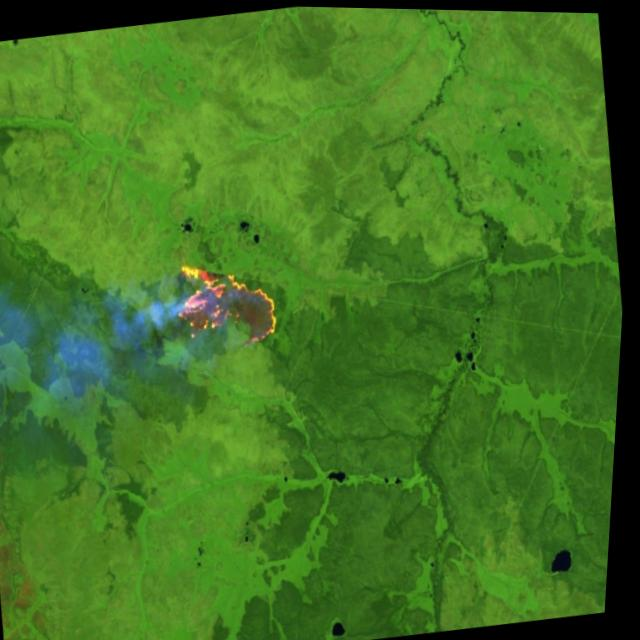fire: (170, 242, 294, 357)
